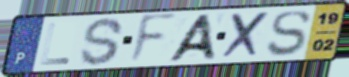A: (164, 12, 219, 63)
F: (126, 11, 179, 67)
L: (39, 21, 72, 67)
S: (78, 16, 126, 67), (265, 9, 313, 58)
X: (220, 10, 273, 61)
